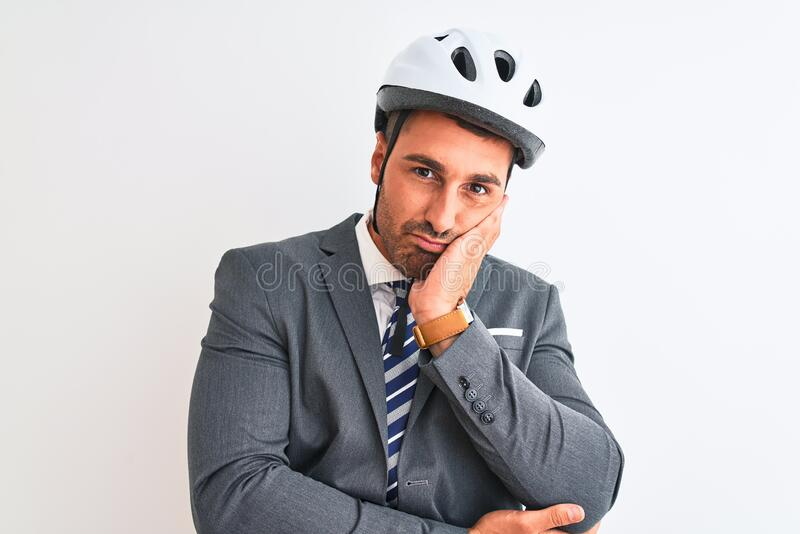helmet: (370, 27, 549, 281)
